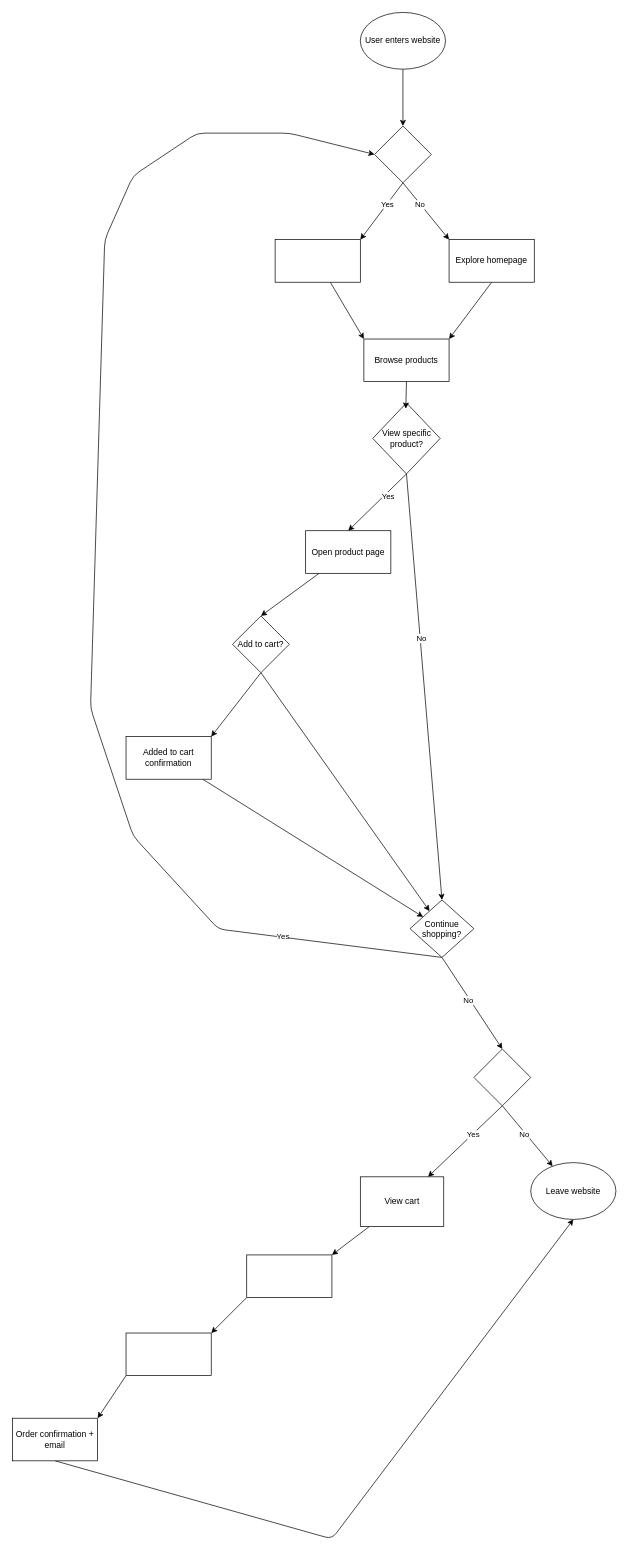
Some shapes in this 628 by 1557 pixel diagram are drawn without their labels. Each missing label, with the centre of its shape:
Checkout?: (502,1077)
Enter payment info: (168,1354)
Enter search input: (317,260)
Search for product?: (402,154)
View payment: (289,1276)
